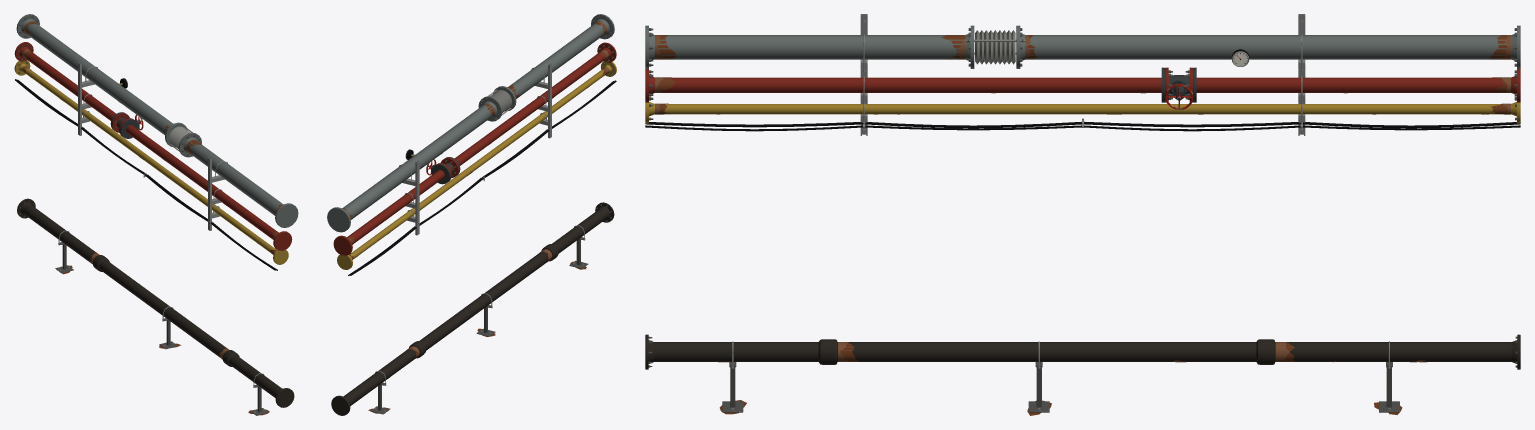
File: pipe_bundle_a.glb
3 renders of one model, left to right at view 1: azimuth 30°, elevation 25°; view 2: azimuth 150°, elevation 25°; view 3: azimuth 270°, elevation 25°, orthographic. The views are drawn at different scales.
Parts seen in each view (by area): view 1: rohrbuendel_a0, rohrbuendel_a16, rohrbuendel_a4, rohrbuendel_a5, rohrbuendel_a7, rohrbuendel_a6, rohrbuendel_a1, rohrbuendel_a2, rohrbuendel_a8, rohrbuendel_a13; view 2: rohrbuendel_a0, rohrbuendel_a16, rohrbuendel_a4, rohrbuendel_a5, rohrbuendel_a7, rohrbuendel_a6, rohrbuendel_a1, rohrbuendel_a2, rohrbuendel_a8, rohrbuendel_a13, rohrbuendel_a3; view 3: rohrbuendel_a0, rohrbuendel_a16, rohrbuendel_a4, rohrbuendel_a5, rohrbuendel_a6, rohrbuendel_a1, rohrbuendel_a2, rohrbuendel_a8, rohrbuendel_a7, rohrbuendel_a3.
Part boxes in pixels (x1=…): rohrbuendel_a0: x1=16, y1=14, x2=298, y2=227; rohrbuendel_a16: x1=17, y1=198, x2=294, y2=407; rohrbuendel_a4: x1=14, y1=42, x2=292, y2=250; rohrbuendel_a5: x1=14, y1=60, x2=288, y2=264; rohrbuendel_a7: x1=58, y1=62, x2=264, y2=387; rohrbuendel_a6: x1=15, y1=78, x2=277, y2=270; rohrbuendel_a1: x1=17, y1=16, x2=268, y2=415; rohrbuendel_a2: x1=24, y1=22, x2=282, y2=415; rohrbuendel_a8: x1=59, y1=78, x2=264, y2=412; rohrbuendel_a13: x1=110, y1=112, x2=138, y2=138; rohrbuendel_a0: x1=327, y1=14, x2=614, y2=232; rohrbuendel_a16: x1=331, y1=202, x2=614, y2=415; rohrbuendel_a4: x1=333, y1=42, x2=616, y2=255; rohrbuendel_a5: x1=337, y1=61, x2=616, y2=269; rohrbuendel_a7: x1=375, y1=63, x2=585, y2=385; rohrbuendel_a6: x1=348, y1=80, x2=616, y2=275; rohrbuendel_a1: x1=370, y1=16, x2=613, y2=414; rohrbuendel_a2: x1=342, y1=22, x2=607, y2=413; rohrbuendel_a8: x1=375, y1=89, x2=583, y2=411; rohrbuendel_a13: x1=431, y1=157, x2=460, y2=184; rohrbuendel_a3: x1=348, y1=21, x2=609, y2=377; rohrbuendel_a0: x1=645, y1=25, x2=1520, y2=68; rohrbuendel_a16: x1=645, y1=334, x2=1520, y2=369; rohrbuendel_a4: x1=645, y1=67, x2=1520, y2=102; rohrbuendel_a5: x1=645, y1=102, x2=1520, y2=123; rohrbuendel_a6: x1=645, y1=49, x2=1520, y2=131; rohrbuendel_a1: x1=648, y1=28, x2=1517, y2=412; rohrbuendel_a2: x1=657, y1=35, x2=1508, y2=415; rohrbuendel_a8: x1=731, y1=20, x2=1390, y2=410; rohrbuendel_a7: x1=731, y1=14, x2=1390, y2=368; rohrbuendel_a3: x1=655, y1=35, x2=1510, y2=362.
Size of the model in its own units: 0.316 by 2.42 by 5.
